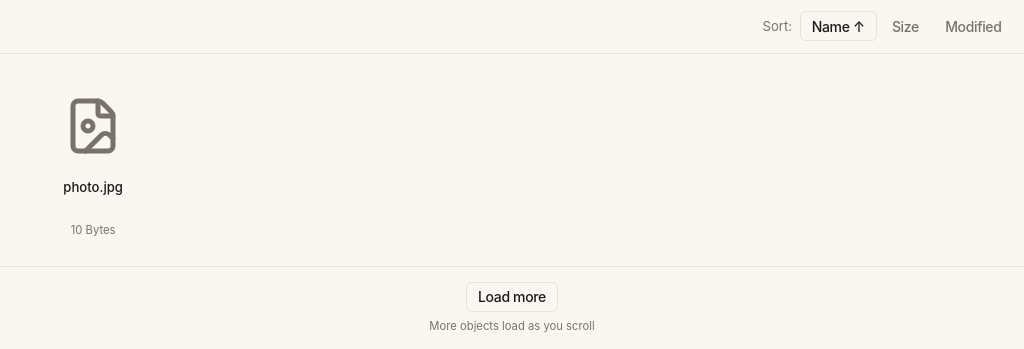
Scenario: ObjectsGrid continuous loading › opens actions on right click without entering selection
Right-click the list item "photo.jpg": point(93, 160) 15,68 -> 171,250
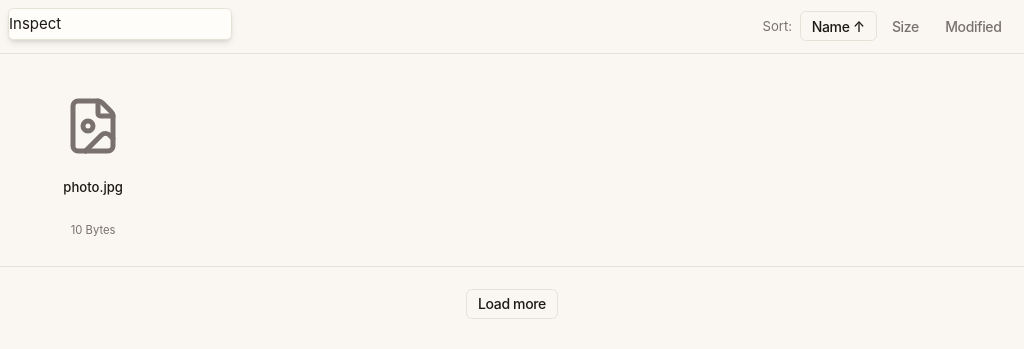
Now the menu named "Object actions" is shown, box 8,8 -> 232,40
Now the button "Inspect" is shown, box 9,13 -> 61,35
